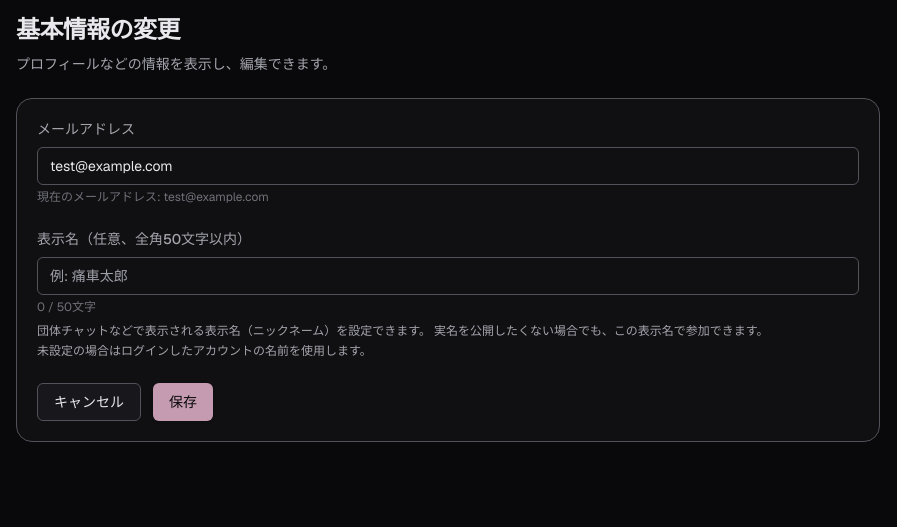
ProfileEditPage › エラーが発生した場合、エラーメッセージを表示する
This screenshot has width=897, height=527.
Type "新しい表示名" into the field labelled "表示名（任意、全角50文字以内）". click: (448, 276)
box: [37,257,859,295]
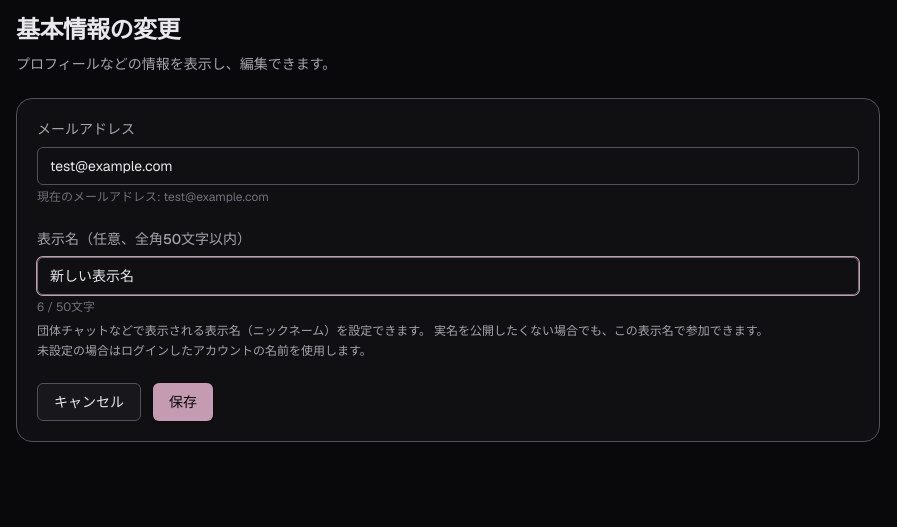
Click the button "保存". click: (183, 402)
box: [153,383,213,421]
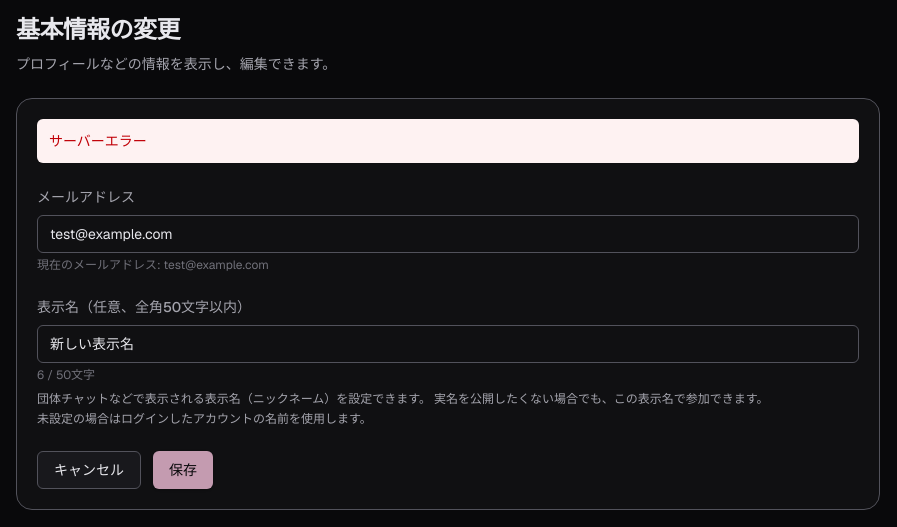
Now the text "サーバーエラー" is shown, box [37,119,859,163]
